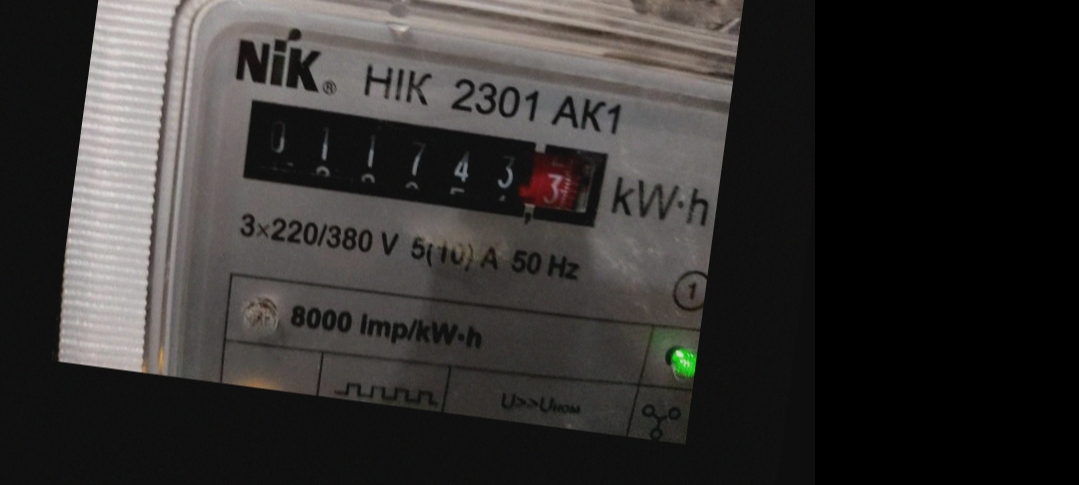0: (264, 118, 290, 160), (313, 124, 336, 167)
1: (359, 131, 381, 173)
3: (493, 151, 518, 197), (539, 171, 564, 211)
4: (448, 145, 473, 188)
7: (402, 136, 430, 183)
screen: (220, 86, 618, 243)
